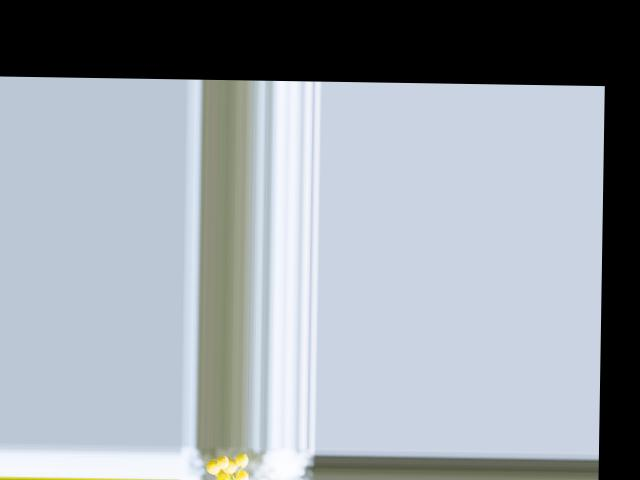lemon: (206, 455, 222, 475)
